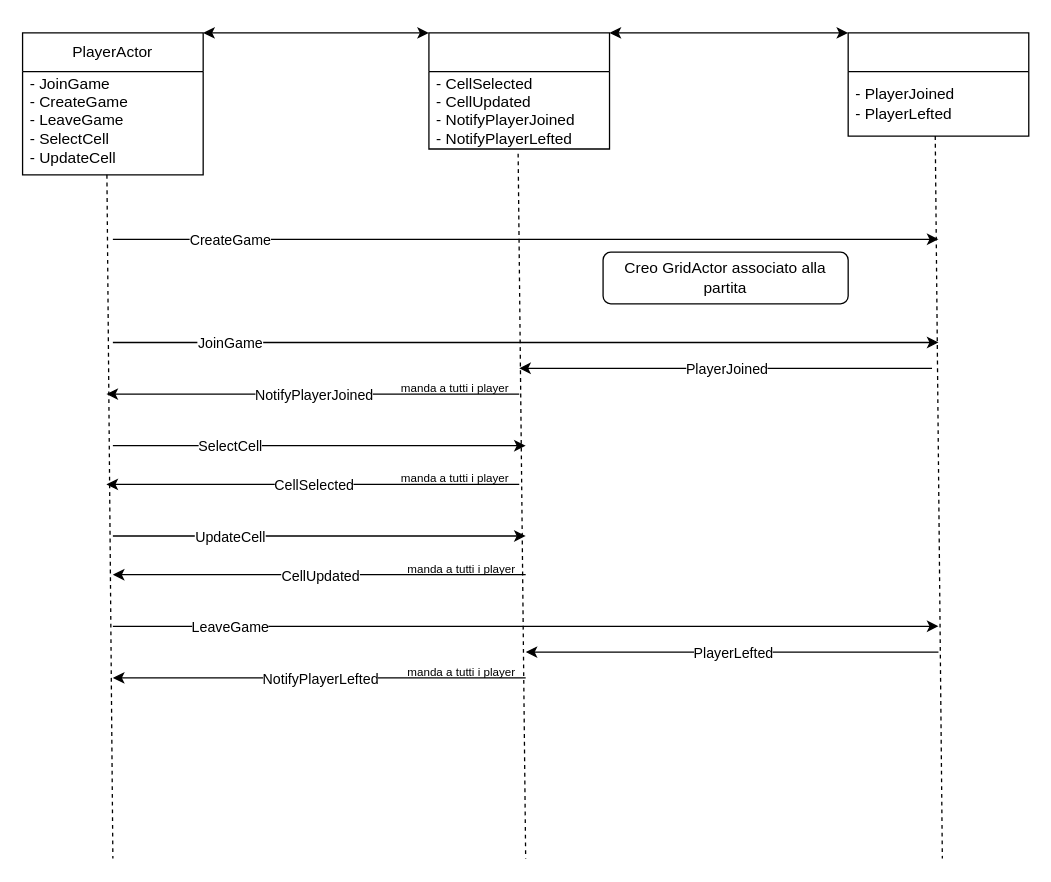
The diagram is 1051 pixels wide and 882 high, and some of its shapes have lost their labels. Each missing label, with the box of its shape:
CoordinatorActor: (847, 32, 1029, 136)
GridActor: (428, 32, 610, 149)
